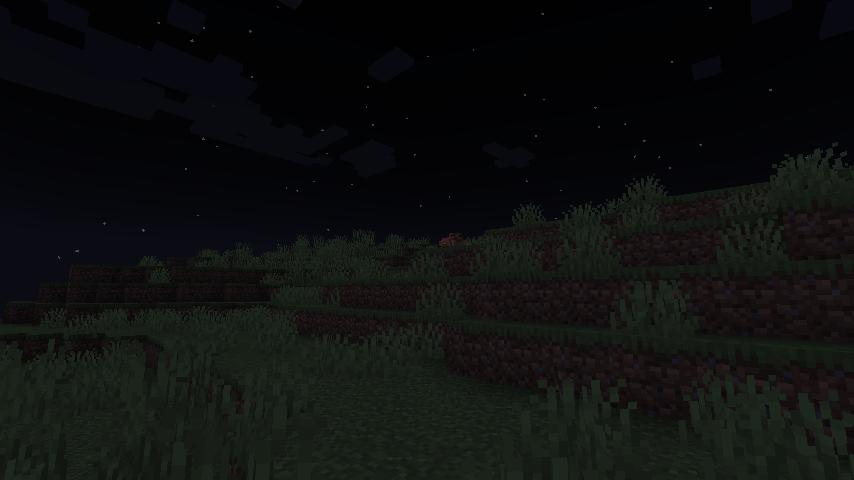frog: (439, 232, 464, 248)
